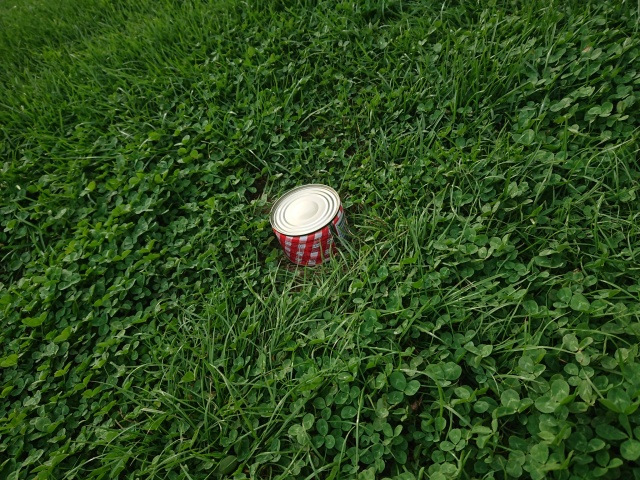Podravka Luncheon Meat 150g: (265, 181, 359, 271)
